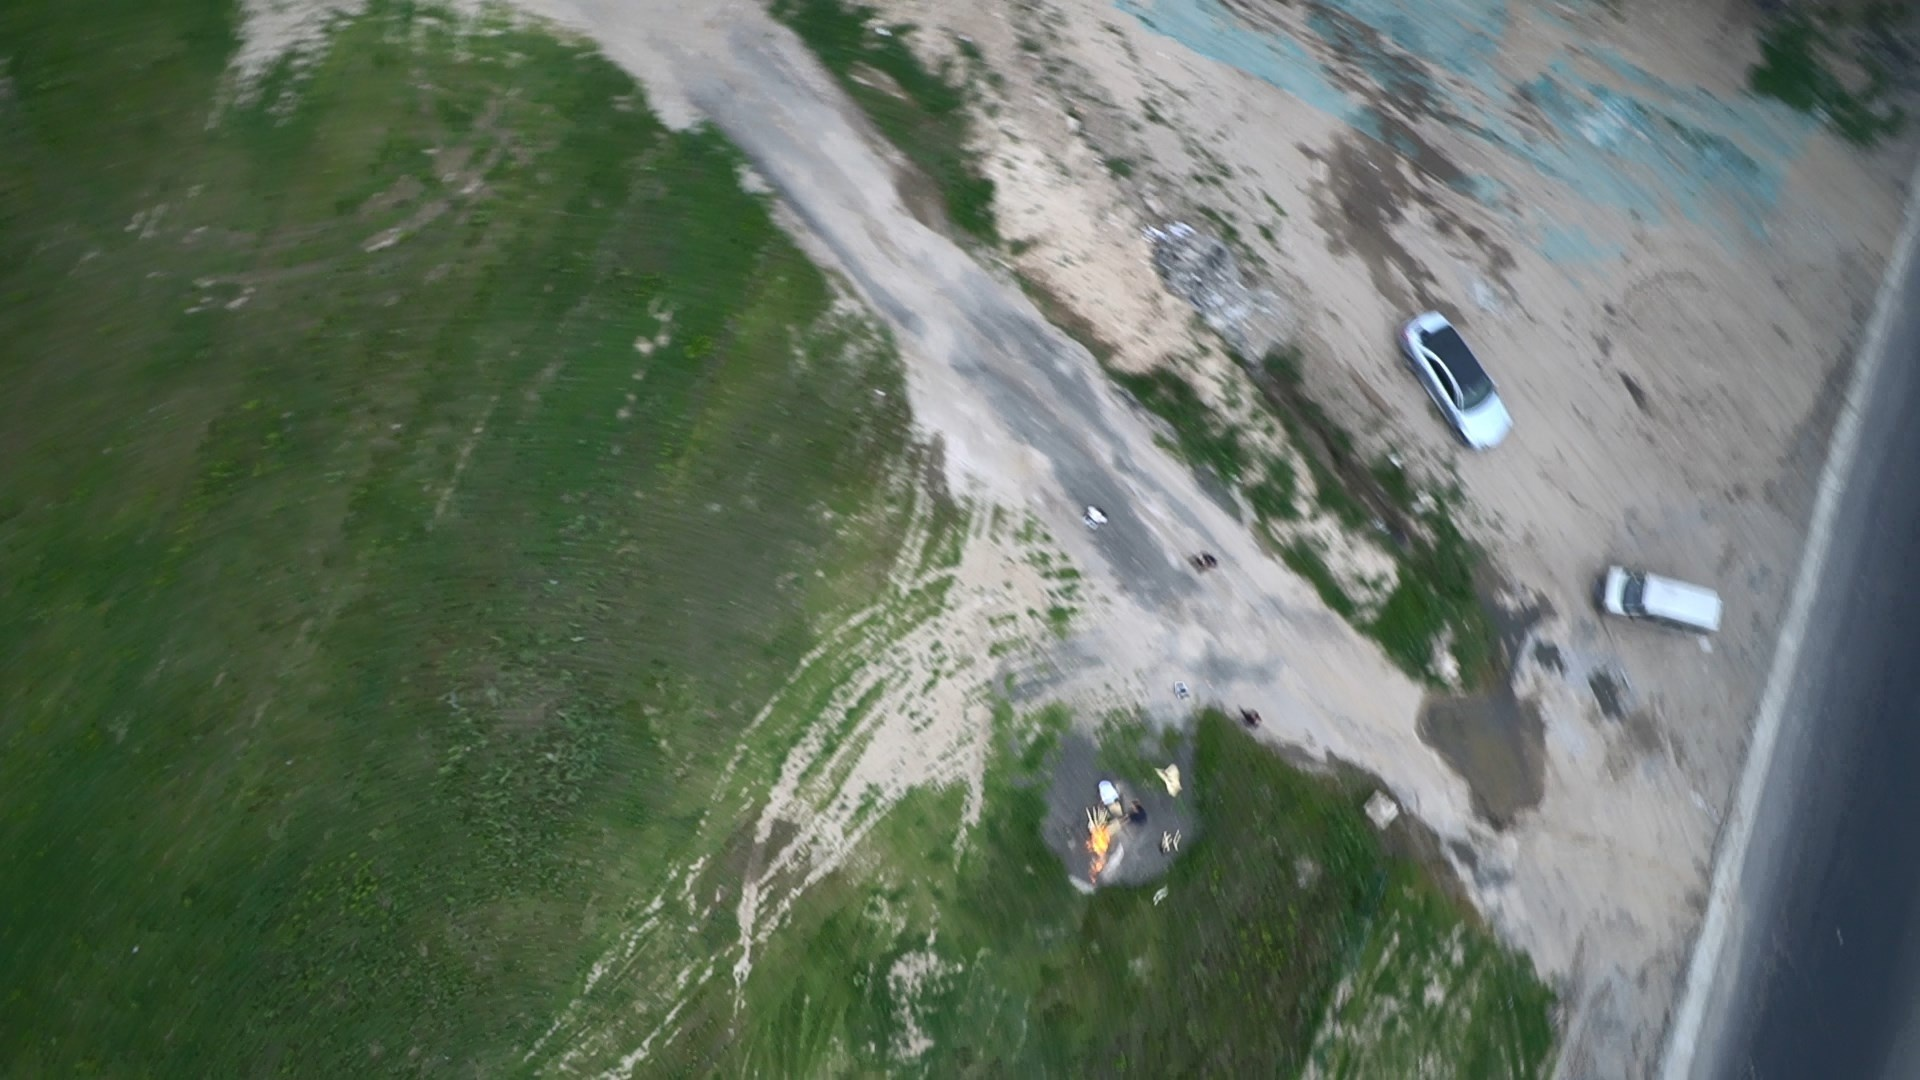fire: (1071, 793, 1126, 876)
